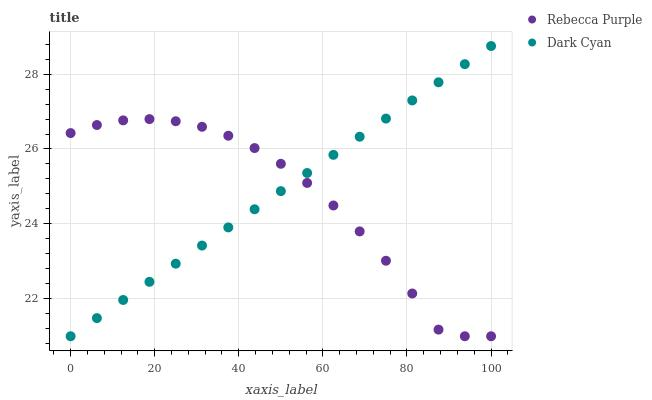axis: (59, 348, 517, 356), (44, 30, 53, 349)
legend: (517, 1, 651, 57)
point: (169, 256, 183, 269), (381, 111, 393, 124), (222, 221, 236, 232), (333, 203, 343, 218), (118, 292, 129, 305), (432, 77, 444, 88), (436, 322, 445, 336), (276, 156, 286, 168), (276, 186, 288, 196), (327, 148, 340, 157), (487, 43, 497, 54), (119, 117, 129, 127), (199, 122, 209, 132), (65, 331, 74, 342), (383, 253, 390, 267), (66, 129, 75, 138), (487, 332, 495, 341)
